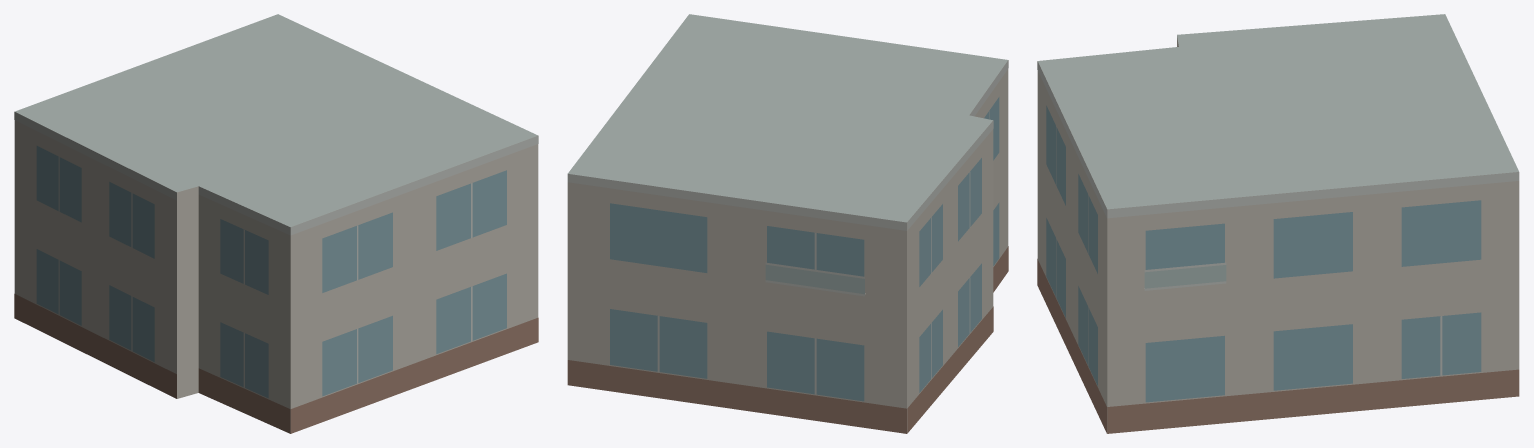
The model's file is survey-upis-32619851.glb.
3 renders of one model, left to right at view 1: azimuth 30°, elevation 25°; view 2: azimuth 150°, elevation 25°; view 3: azimuth 270°, elevation 25°, orthographic. The views are drawn at different scales.
Parts seen in each view (by area): view 1: survey-upis-32619851.tmp; view 2: survey-upis-32619851.tmp; view 3: survey-upis-32619851.tmp.
Boxes of the visible parts, bbox=[...] form: survey-upis-32619851.tmp: bbox=[14, 14, 538, 433]; survey-upis-32619851.tmp: bbox=[567, 14, 1008, 433]; survey-upis-32619851.tmp: bbox=[1037, 14, 1519, 433].
Bounding box in the file's own units: 11.4 × 6.1 × 11.88.
